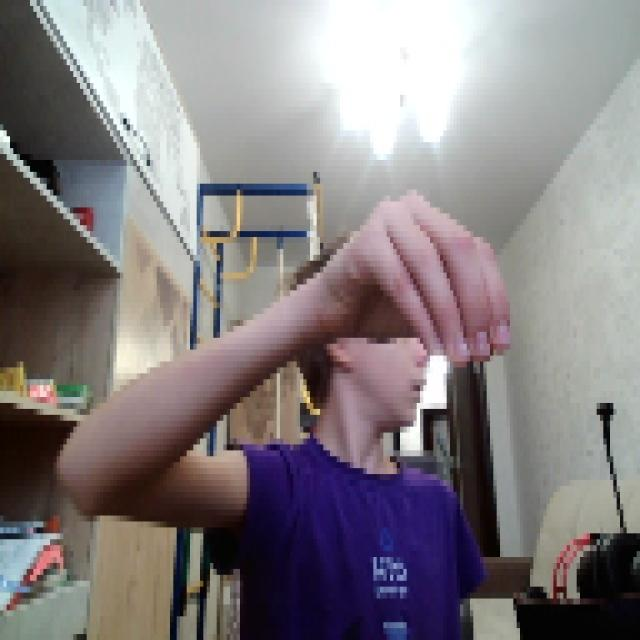left_click: (333, 184, 510, 362)
